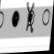correct: (9, 7, 22, 34)
not correct: (22, 0, 39, 36)
